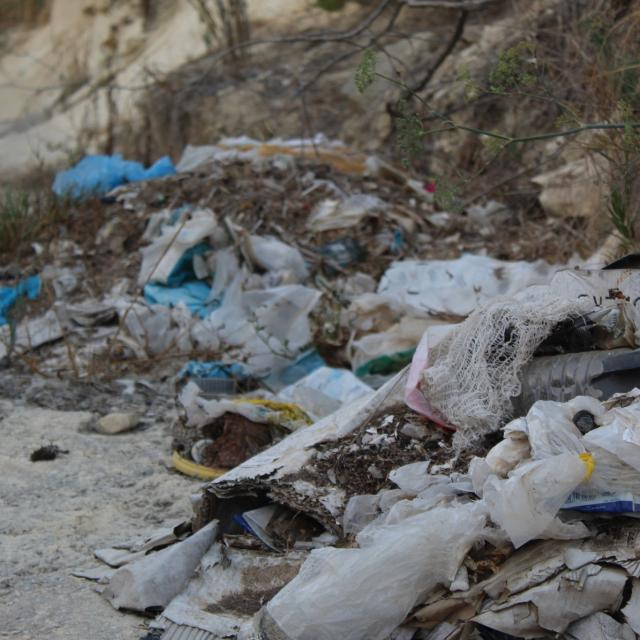Carton: (84, 363, 482, 640), (384, 520, 640, 640), (51, 266, 130, 333)
Other litter: (165, 367, 395, 479), (183, 132, 440, 198)
Other plastic: (262, 229, 640, 640), (122, 203, 591, 412), (0, 268, 66, 360), (54, 155, 177, 202)
